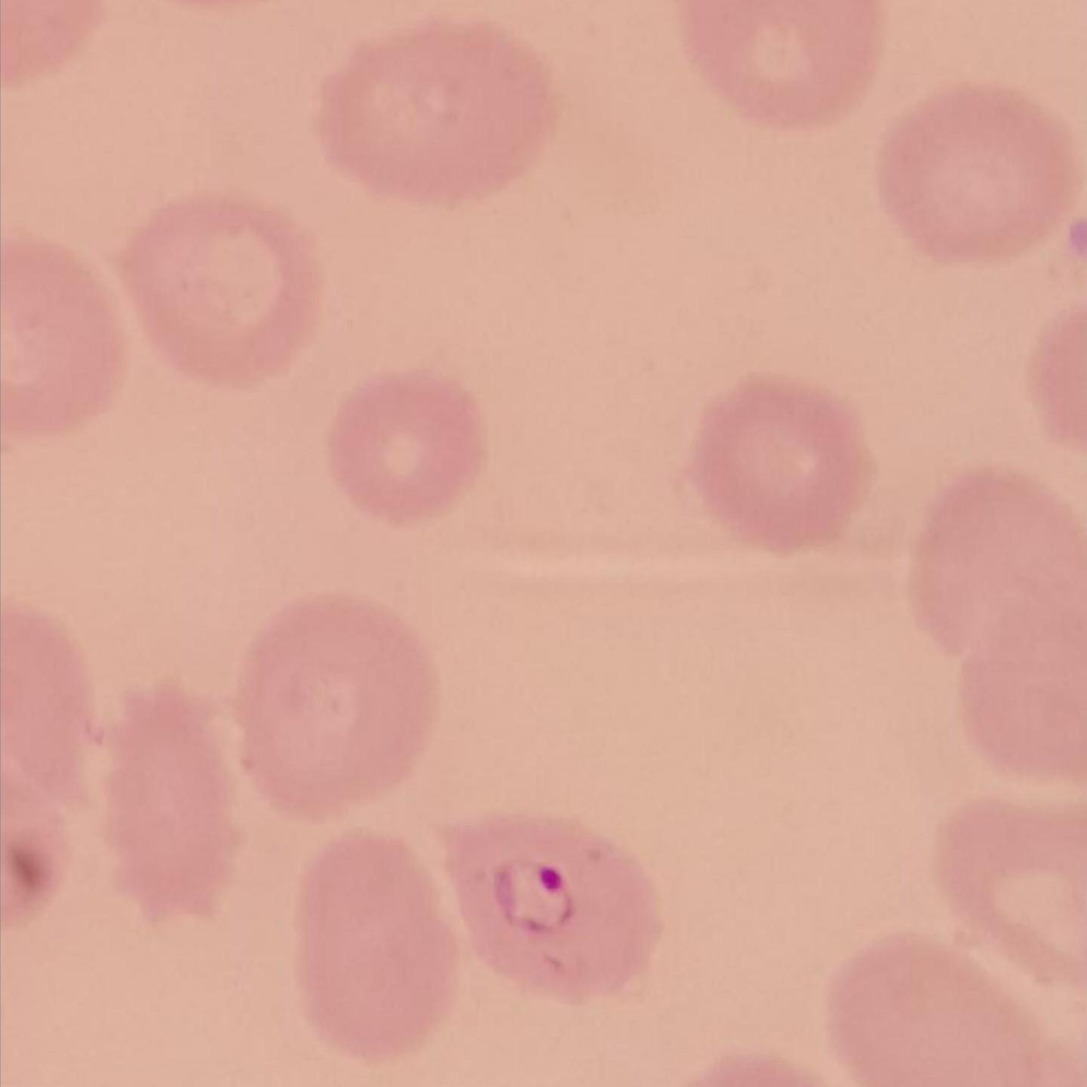Infected: (458, 821, 665, 1000)
Uninfected: (236, 594, 441, 813), (319, 19, 559, 205), (873, 81, 1080, 261), (290, 832, 459, 1048), (911, 466, 1087, 673), (123, 197, 322, 380), (100, 685, 244, 926), (828, 928, 1037, 1087), (697, 368, 873, 547), (926, 796, 1087, 970), (0, 230, 130, 436), (673, 0, 880, 127), (330, 364, 488, 523), (960, 594, 1087, 783)
